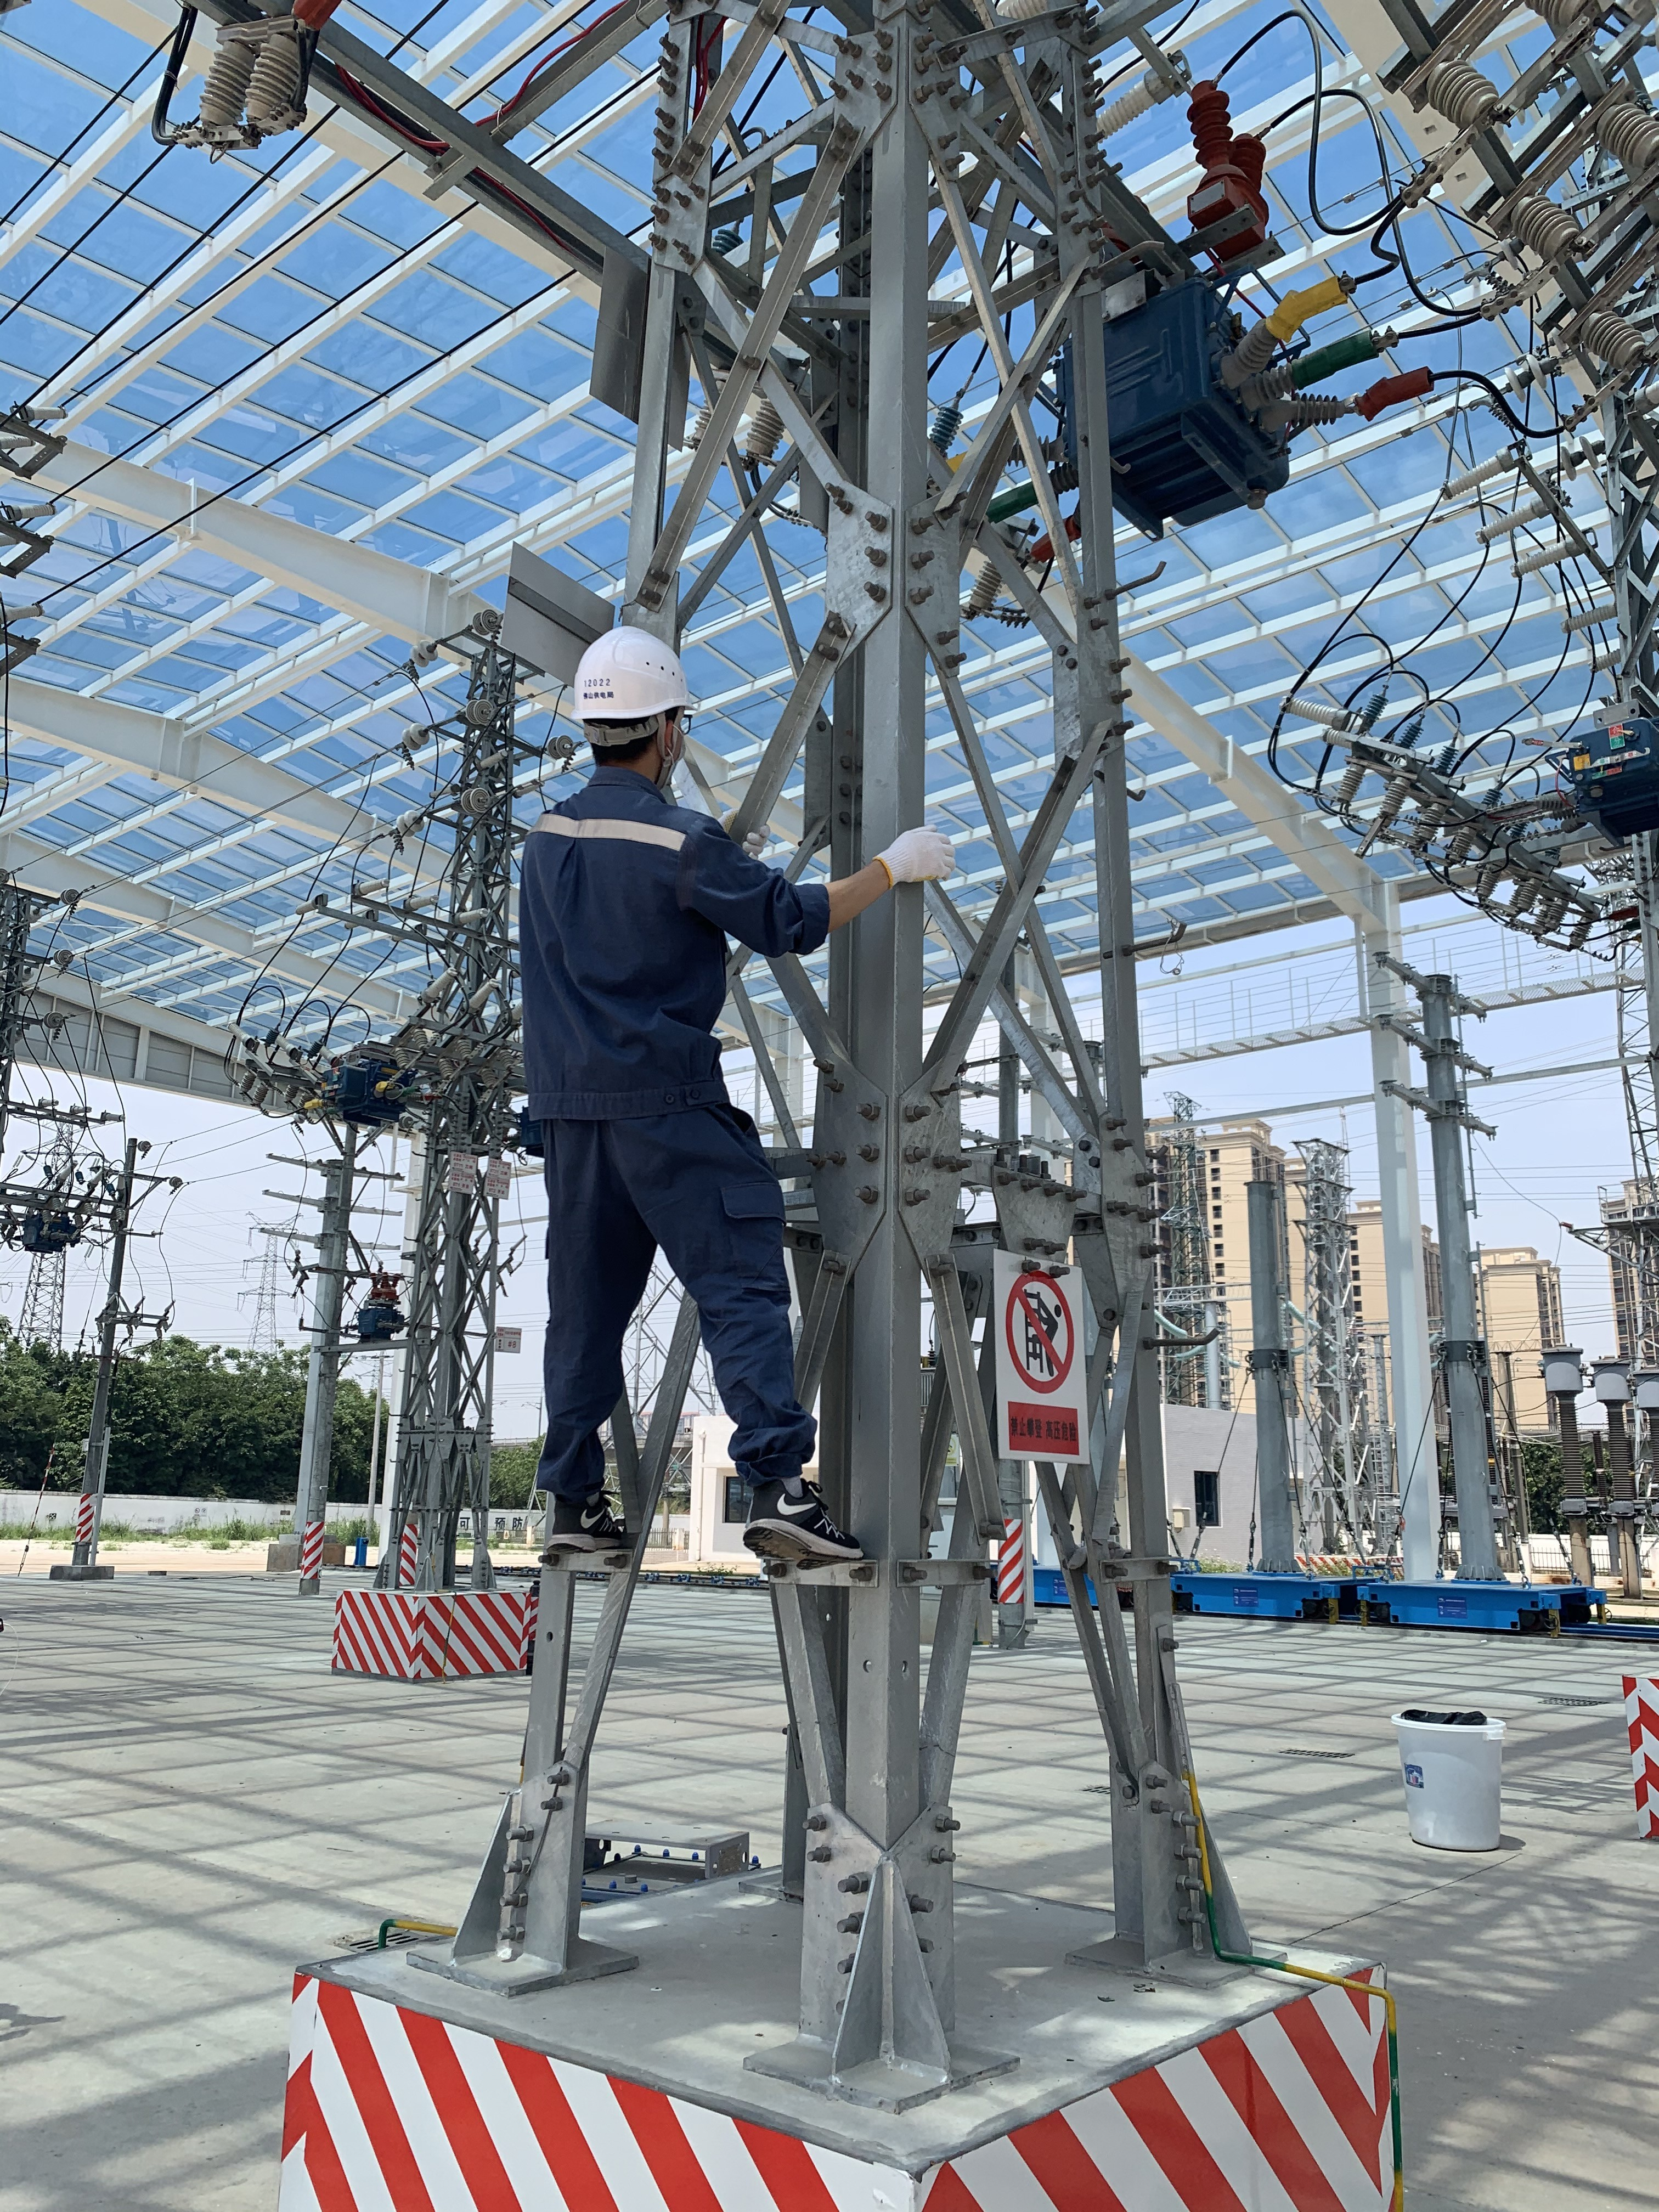downsuit: (523, 1143, 828, 1491)
upsuit: (502, 777, 843, 1115)
wrongtop: (782, 831, 948, 942)
